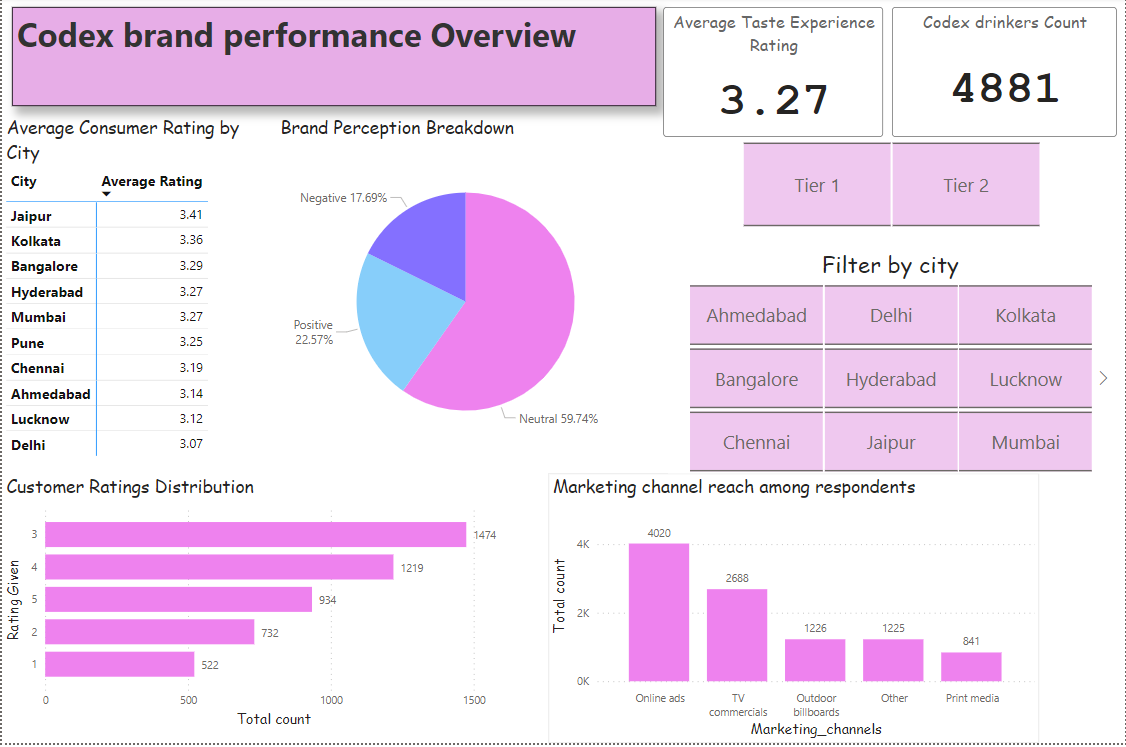

The dashboard page shown, as its layout file describes it:
{"tool":"powerbi","page":{"name":"Codex brand insights","canvas":[1280,850],"ordinal":2},"visuals":[{"type":"columnChart","title":"Marketing channel reach among respondents","fields":{"Category":["fact_survey_responses.Marketing_channels"],"Y":["dim_cities.Total count"]},"box":[622.2,542.5,559.5,307.5],"z":0},{"type":"pieChart","title":"Brand  Perception Breakdown","fields":{"Y":["dim_cities.Total count"],"Category":["fact_survey_responses.Brand_perception"]},"box":[311.8,133.8,432.8,398.7],"z":1000},{"type":"pivotTable","title":"Average Consumer Rating by City","fields":{"Values":["dim_cities.AverageTasteExperienceByCity"],"Rows":["dim_cities.City"]},"box":[0,133.8,296.1,398.7],"z":2000},{"type":"barChart","title":"Customer Ratings Distribution","fields":{"Category":["fact_survey_responses.Taste_experience"],"Y":["dim_cities.Total count"]},"box":[0,542.5,588,296.1],"z":3000},{"type":"textbox","box":[11,11,733.5,112.4],"z":4000},{"type":"card","title":"Average Taste Experience Rating","fields":{"Values":["dim_cities.Average Rating"]},"box":[753.2,11.4,250.6,148.1],"z":5000},{"type":"card","title":"Codex drinkers Count","fields":{"Values":["dim_cities.Codex Customer Count"]},"box":[1013.7,11.4,256.3,148.1],"z":6000},{"type":"slicer","title":"Filter by city","fields":{"Values":["dim_cities.City"]},"box":[758.9,281.9,509.7,260.6],"z":7000},{"type":"slicer","fields":{"Values":["dim_cities.Tier"]},"box":[820.1,159.5,388.7,103.9],"z":8000}]}

Visuals, with their boxes in screenshot pixels (x1, y1, x2, y2), scaled from the page's 1280x850 canvas onto the 1126x747 screenshot:
"Marketing channel reach among respondents" columnChart: 547:477:1040:746
"Brand  Perception Breakdown" pieChart: 274:118:655:468
"Average Consumer Rating by City" pivotTable: 0:118:260:468
"Customer Ratings Distribution" barChart: 0:477:517:737
textbox: 10:10:655:108
"Average Taste Experience Rating" card: 663:10:883:140
"Codex drinkers Count" card: 892:10:1117:140
"Filter by city" slicer: 668:248:1116:477
slicer - dim_cities.Tier: 721:140:1063:231
